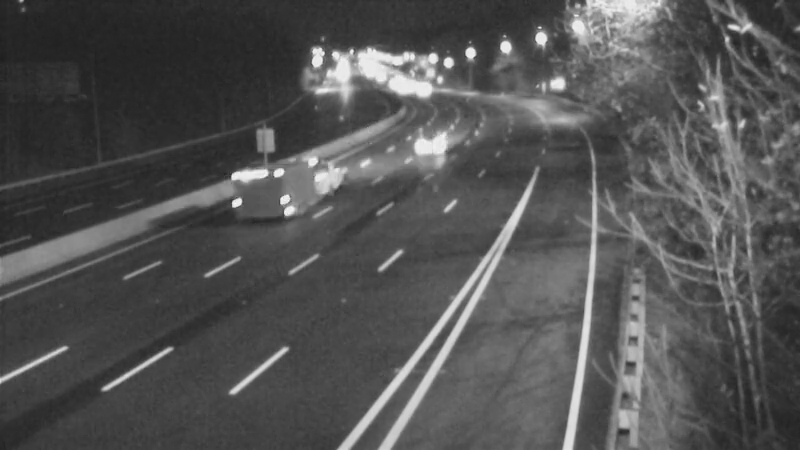vehicle: (224, 154, 304, 234), (401, 70, 451, 120), (410, 118, 460, 168)
